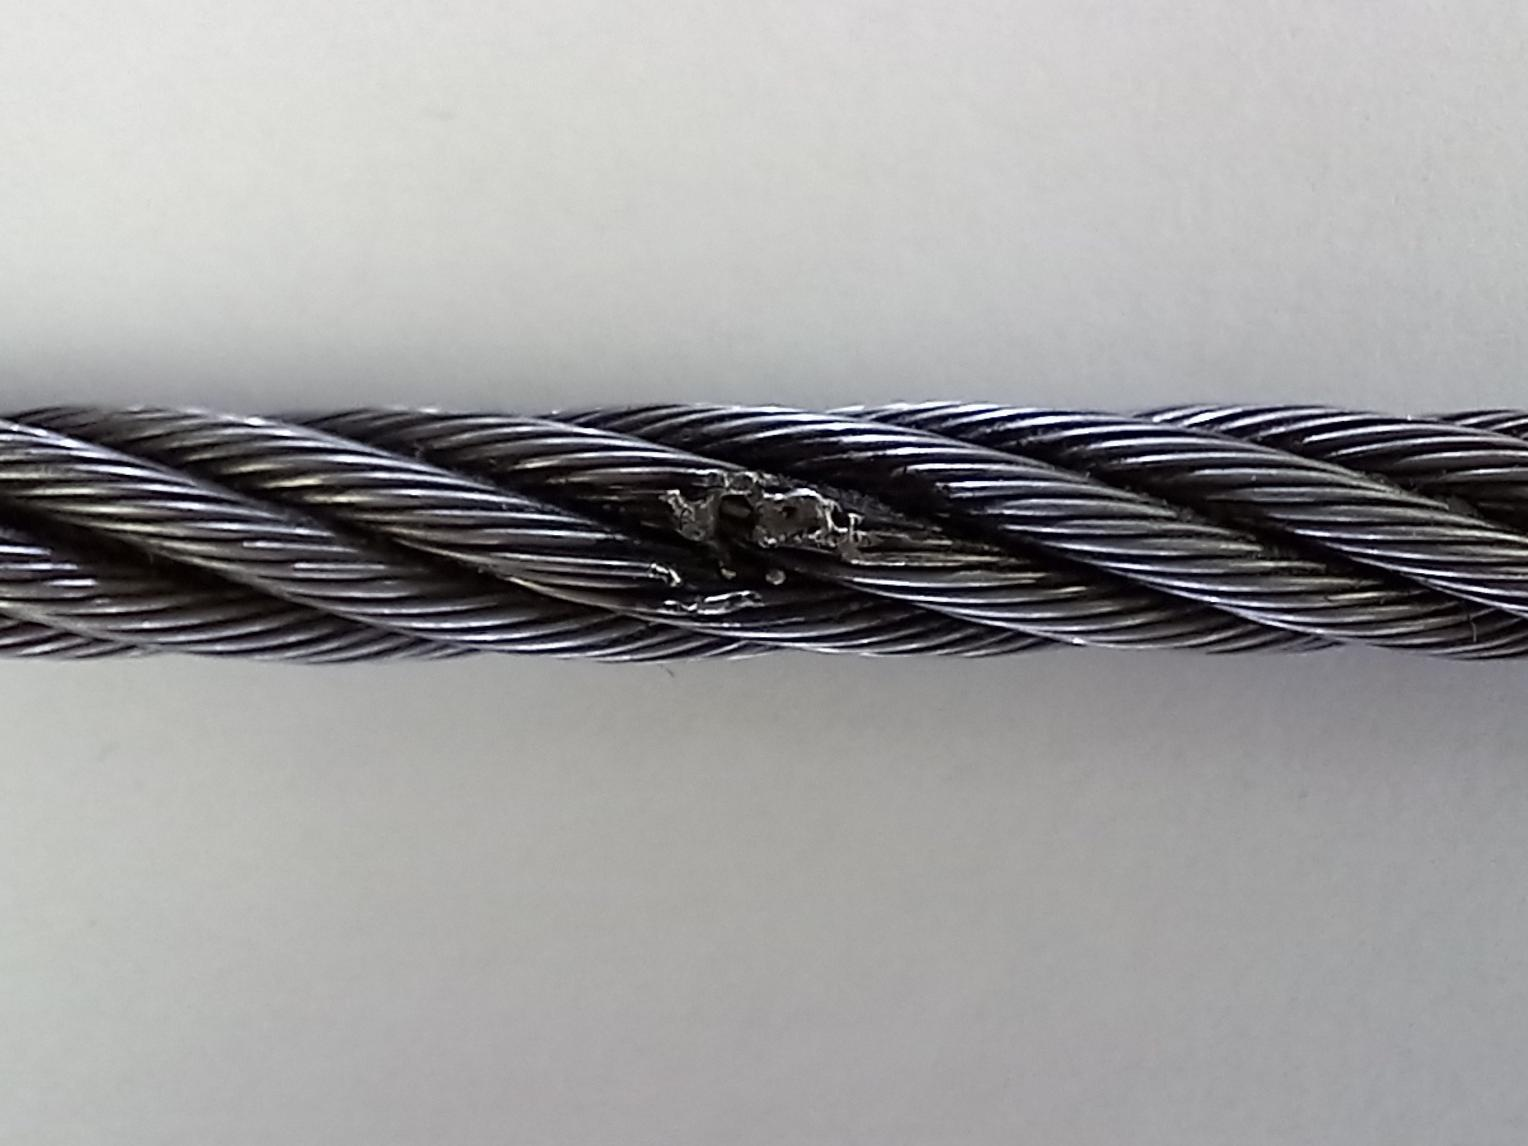thunderbolt: (591, 445, 953, 618)
